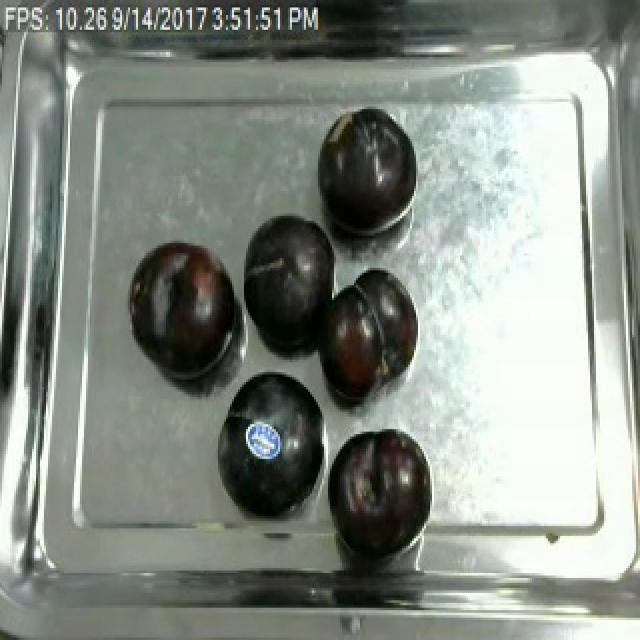Fruit: (210, 362, 330, 521), (130, 233, 244, 385), (312, 266, 422, 410), (238, 206, 340, 357), (314, 104, 418, 241), (324, 422, 432, 553)
